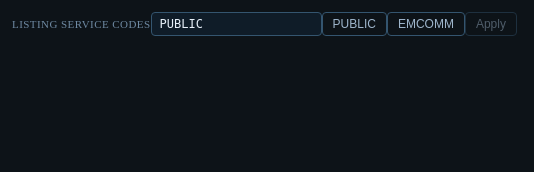
it: ServiceCodesField › Apply is disabled until the value changes
The image size is (534, 172).
Expected: the button with test id "service-codes-apply" is disabled, [465,12,517,36]
Replace the text in the field with test id "service-codes-input" with "PUBLIC EMCOMM" at (236, 24), box [150,12,322,36]
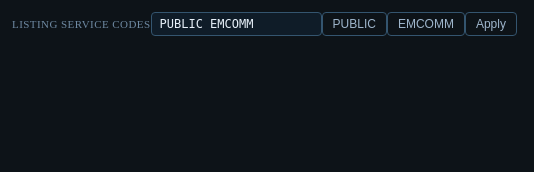
Expected: the button with test id "service-codes-apply" is enabled, [465,12,517,36]
